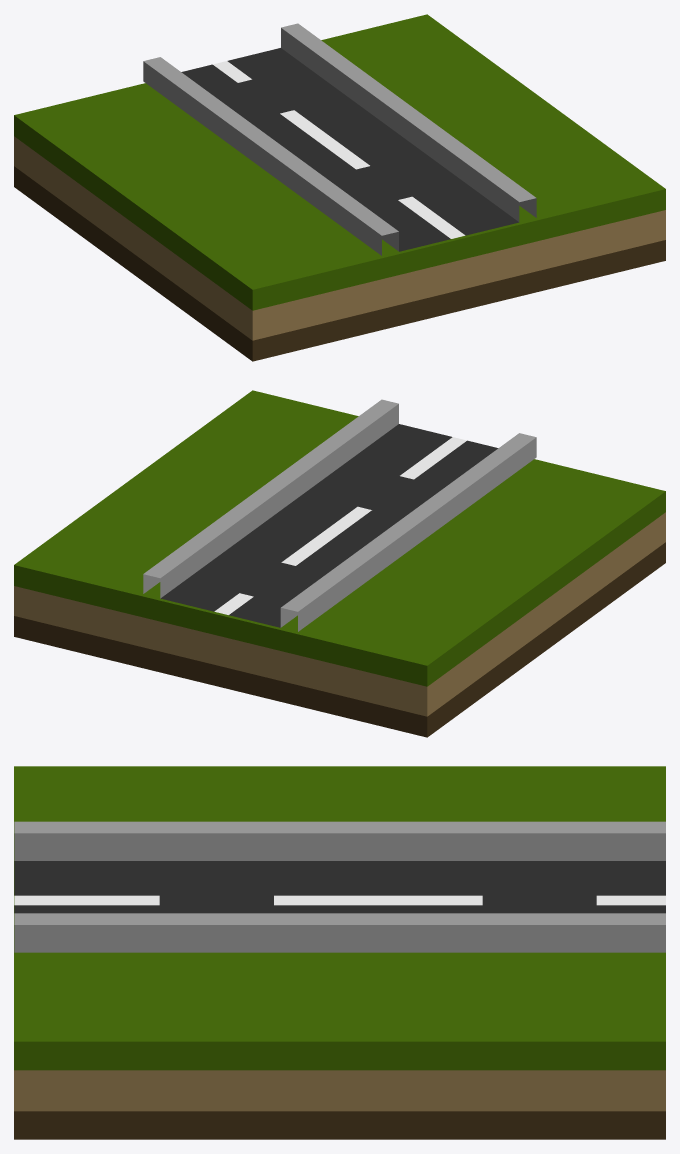
Rendered from Road.fbx.
3 renders of one model, top to bottom at view 1: azimuth 30°, elevation 25°; view 2: azimuth 150°, elevation 25°; view 3: azimuth 270°, elevation 25°, orthographic. The views are drawn at different scales.
Parts seen in each view (by area): view 1: road ground.007; view 2: road ground.007; view 3: road ground.007.
Boxes of the visible parts, <box> form: road ground.007: <box>14,14,665,361</box>; road ground.007: <box>14,390,665,737</box>; road ground.007: <box>14,766,665,1139</box>.
Bounding box in the file's own units: 200 × 43.47 × 200.
